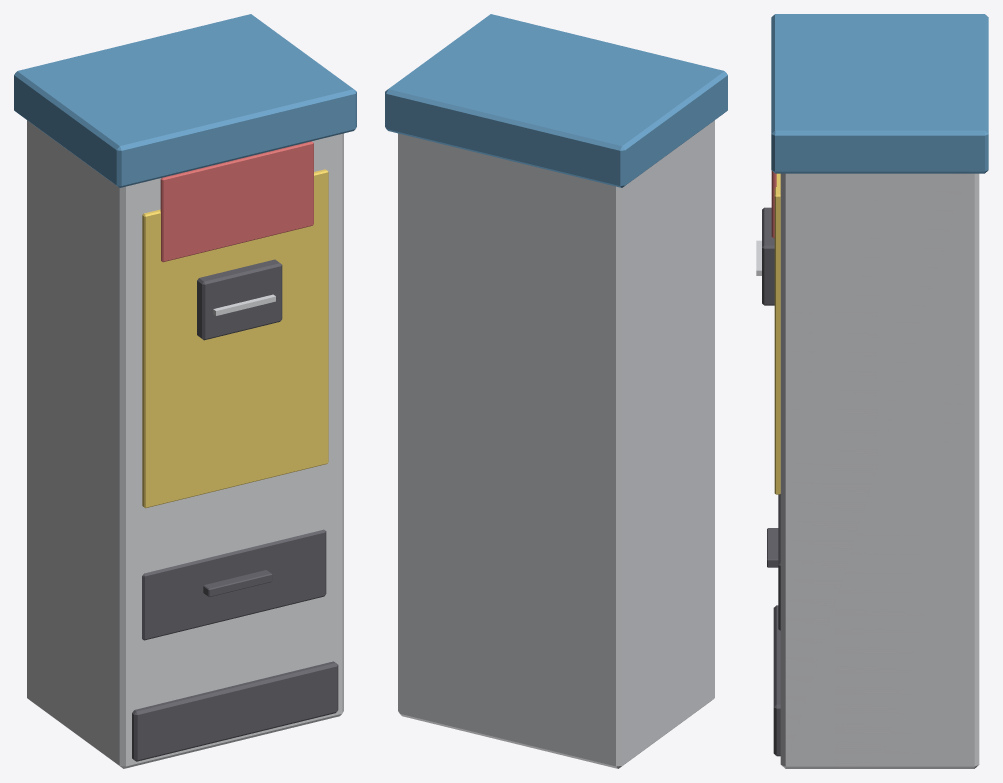
Rendered from amusement-arcade-and-seaside-pier-change-machine-7c03afab__35412.glb.
3 views of the same model, side by side, from view 1: azimuth 30°, elevation 25°; view 2: azimuth 150°, elevation 25°; view 3: azimuth 270°, elevation 25° (orthographic). The views are drawn at different scales.
Visible parts, largest first — view 1: change-machine, coin-drawer; view 2: change-machine; view 3: change-machine, coin-drawer.
Boxes of the visible parts, x1,y1,x2,y2 form: change-machine: (14, 14, 356, 768); coin-drawer: (142, 529, 326, 640); change-machine: (385, 14, 727, 768); change-machine: (756, 14, 988, 768); coin-drawer: (767, 494, 780, 630).
Size of the model in its own units: 0.6 by 1.5 by 0.492.
